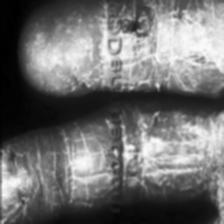Non-Cancerous Skin Condition: (3, 153, 99, 205), (124, 7, 147, 41)
